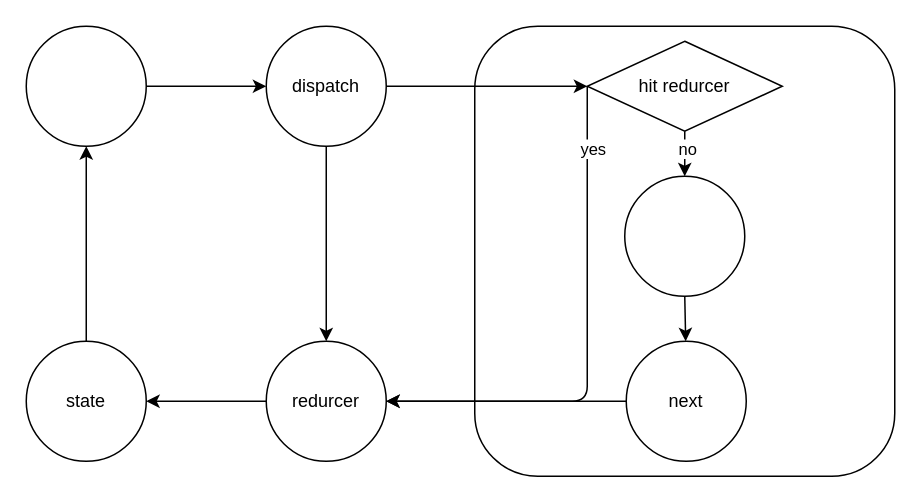
Image size: 921x503. Some labels were removed from this diagram. Each missing label, with the centre of its shape:
"channel.put" goes at point (684, 235).
"store" goes at point (85, 85).
